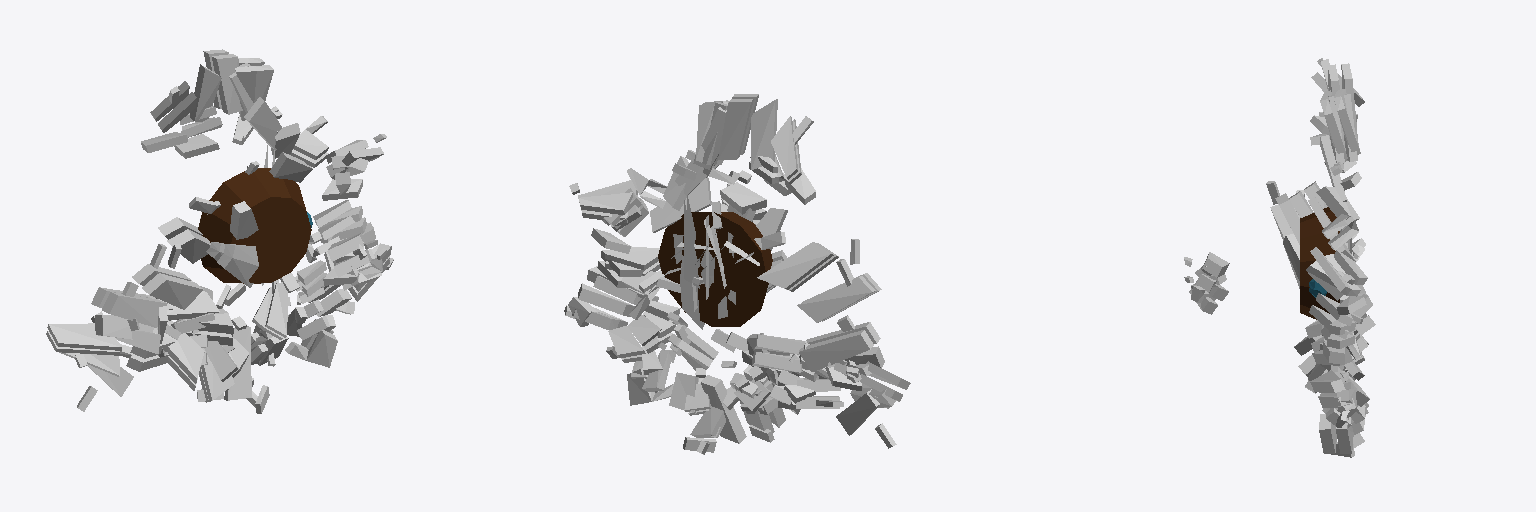
3 views of the same model, side by side, from view 1: azimuth 30°, elevation 25°; view 2: azimuth 150°, elevation 25°; view 3: azimuth 270°, elevation 25° (orthographic).
Visible parts, largest first — view 1: Cone_Cone_cover, Cone.001_Cone.001_cover, Cylinder_Cylinder_Material.001; view 2: Cone_Cone_cover, Cone.001_Cone.001_cover, Cylinder_Cylinder_Material.001, Plane_Plane_Material.003; view 3: Cone_Cone_cover, Cone.001_Cone.001_cover, Cylinder_Cylinder_Material.001.
Boxes of the visible parts, <box> form: Cone_Cone_cover: <box>91,123,393,413</box>; Cone.001_Cone.001_cover: <box>46,49,386,411</box>; Cylinder_Cylinder_Material.001: <box>198,168,311,283</box>; Cone_Cone_cover: <box>564,156,884,454</box>; Cone.001_Cone.001_cover: <box>569,94,910,448</box>; Cylinder_Cylinder_Material.001: <box>658,212,772,326</box>; Plane_Plane_Material.003: <box>665,195,759,329</box>; Cone_Cone_cover: <box>1184,181,1375,457</box>; Cone.001_Cone.001_cover: <box>1191,58,1368,407</box>; Cylinder_Cylinder_Material.001: <box>1300,207,1339,319</box>.
Size of the model in its own units: 3.42 by 3.53 by 1.67.
4 materials, 1 textured.